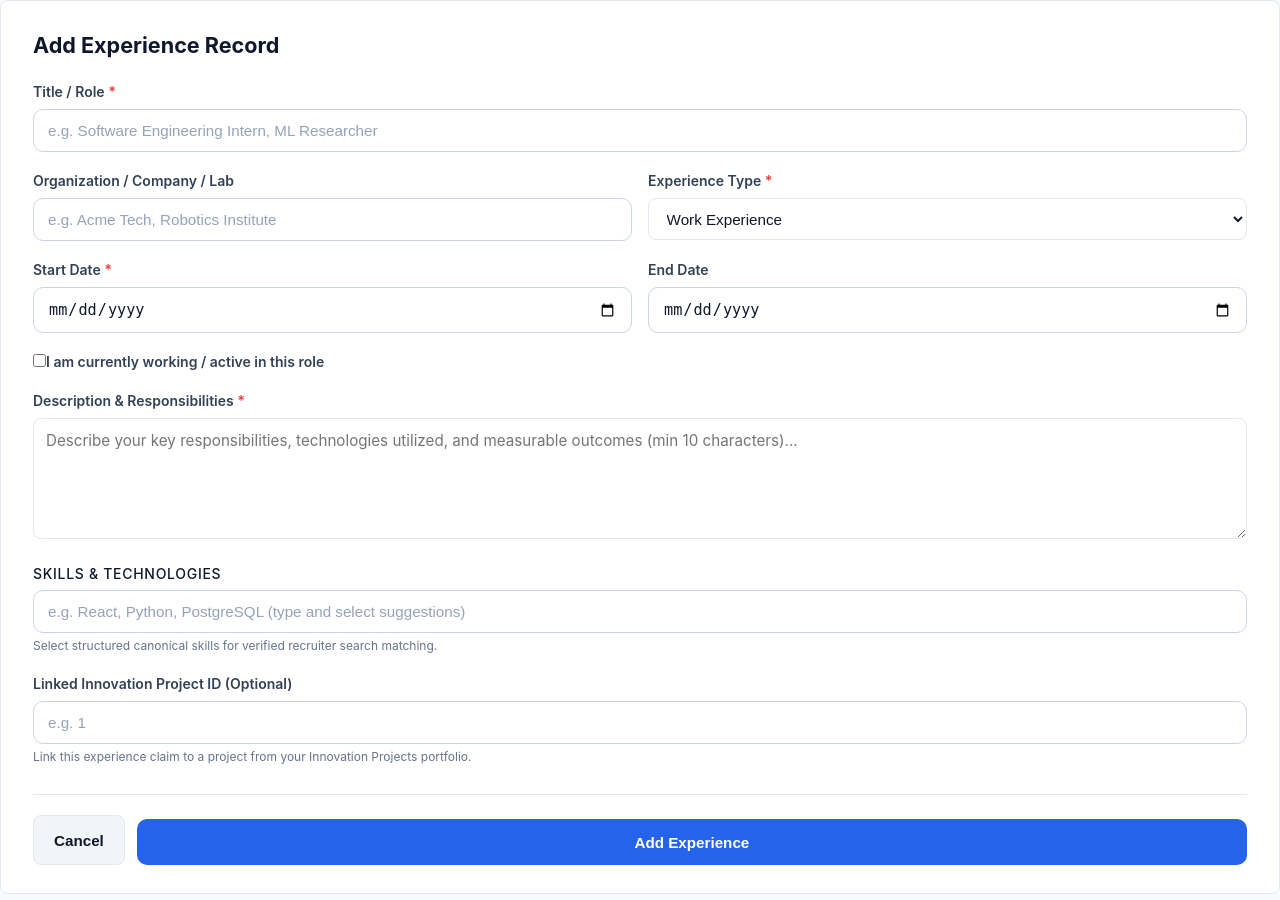
Scenario: ExperienceForm Component › validates that end date cannot precede start date
Type "Frontend Dev" into the field labelled "Title / Role *" at (640, 131), box [33,109,1247,152]
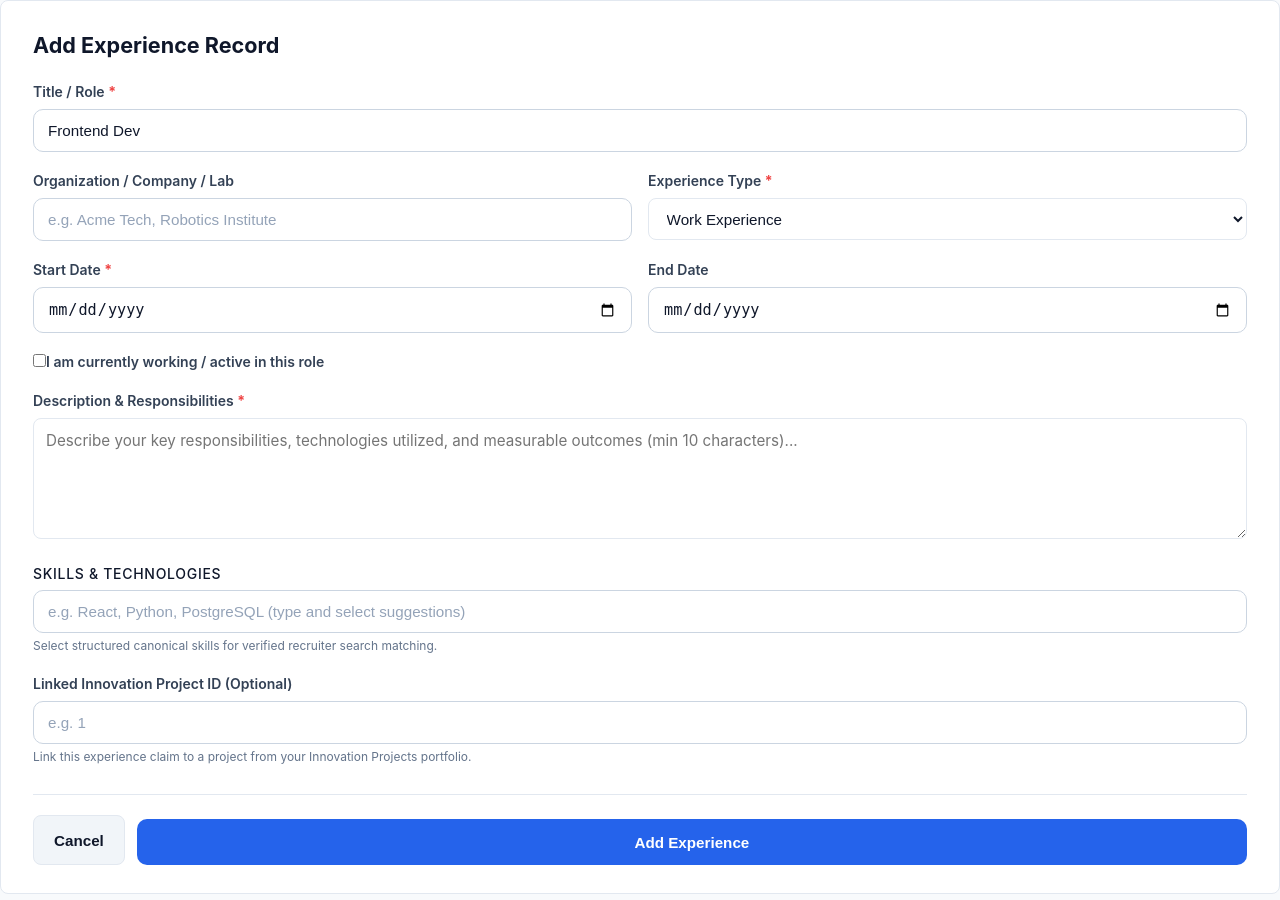
Type "2025-06-01" into the date field labelled "Start Date *" at (332, 310), box [33,287,632,333]
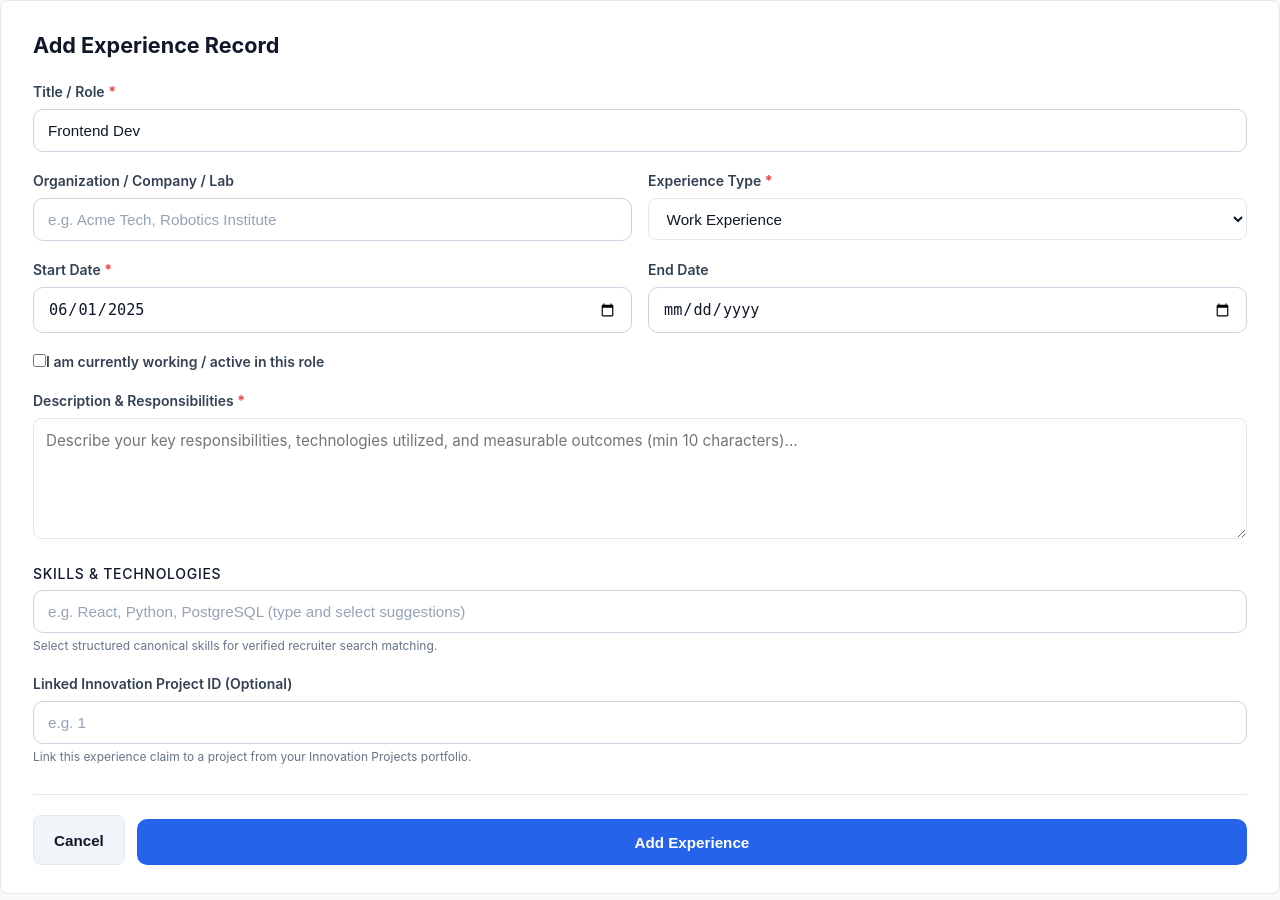
Type "2025-01-01" into the date field labelled "End Date" at (948, 310), box [648,287,1247,333]
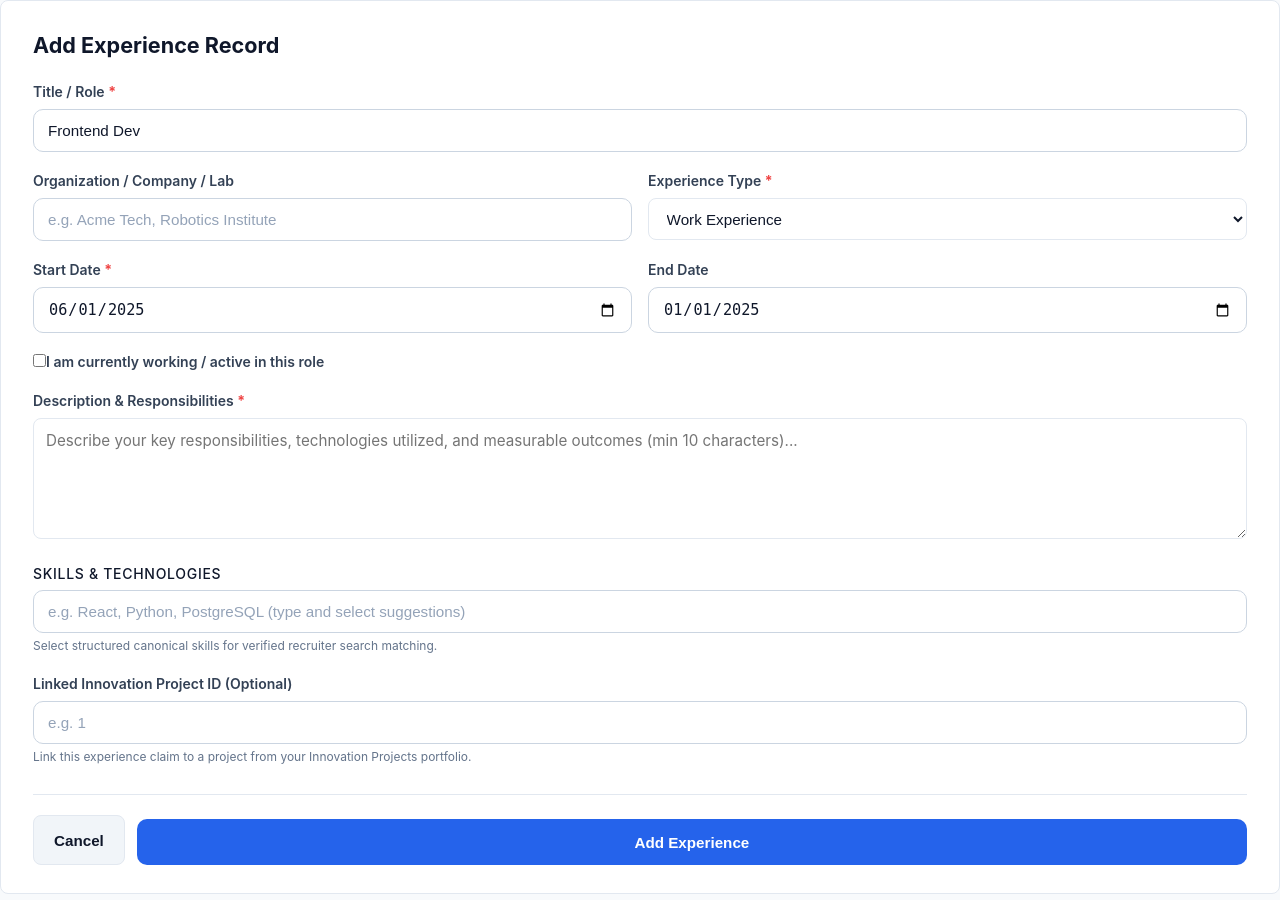
Replace the text in the text box labelled "Description & Responsibilities *" with "Built React apps with TypeScript." at (640, 479), box [33,418,1247,539]
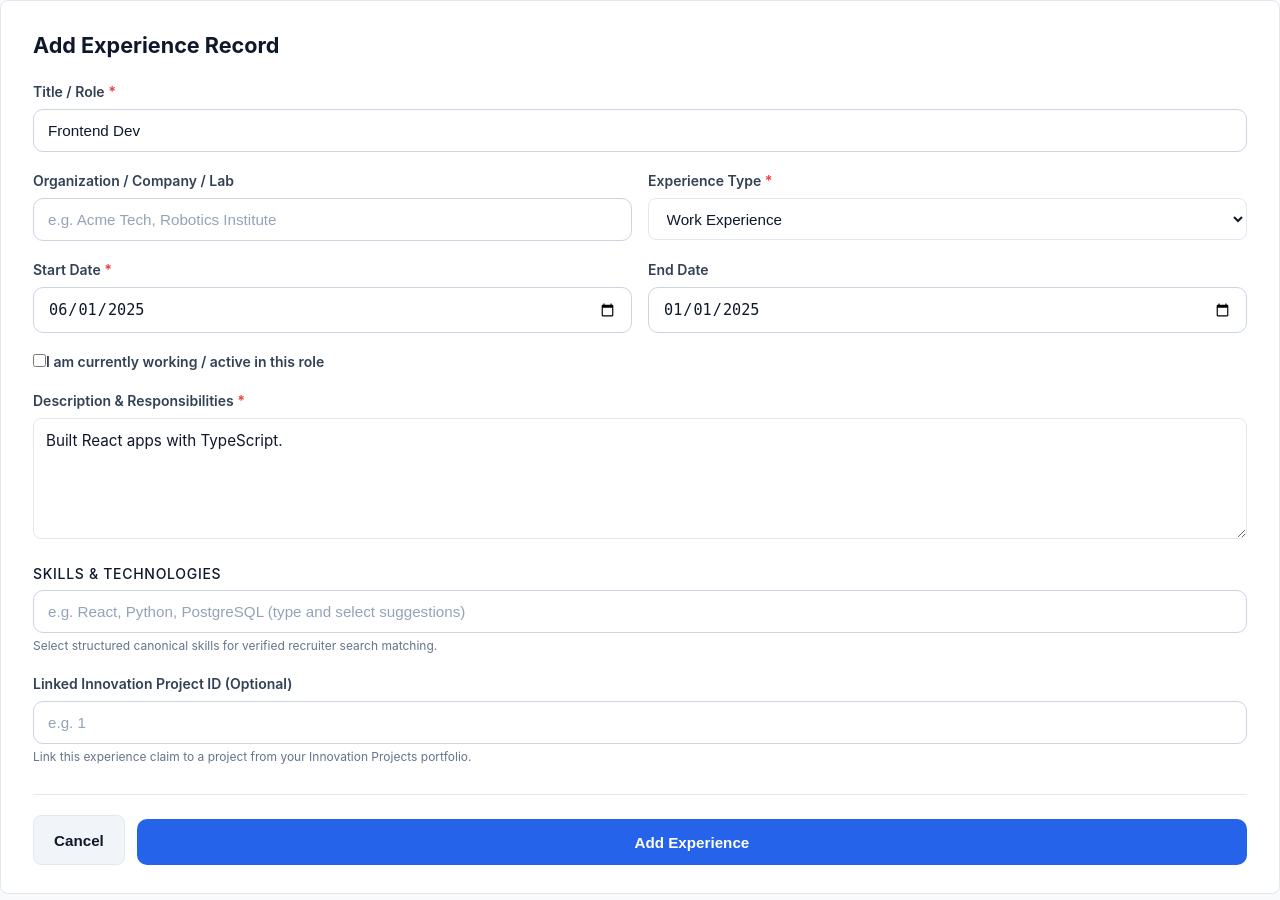
Click the button with test id "submit-experience-btn" at (692, 842), box [137,819,1247,865]
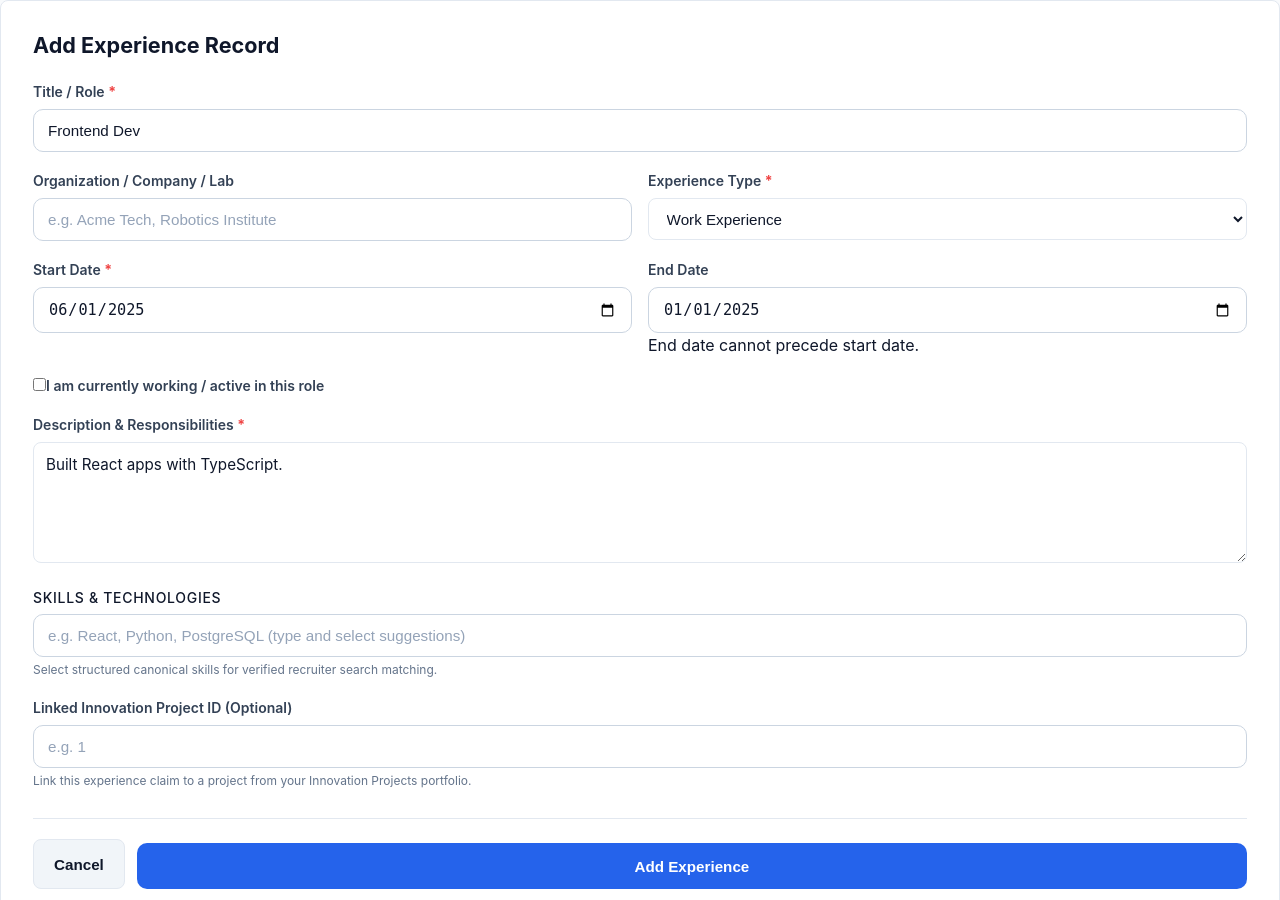
Result: the text "End date cannot precede start date." is shown at [648,335,919,355]
